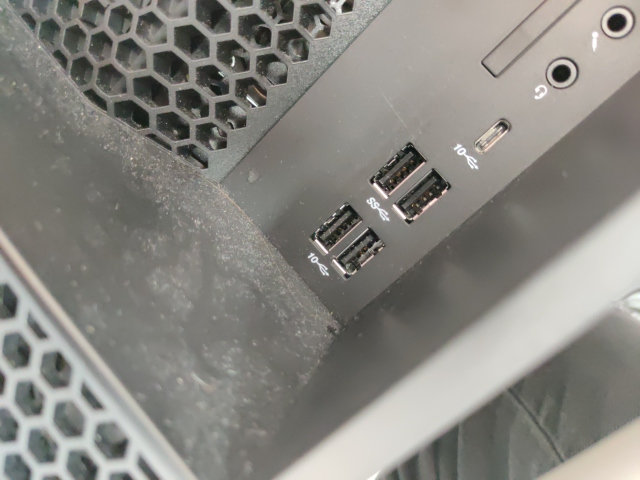3.5mm_audio: (600, 4, 636, 39), (546, 55, 579, 90)
USB: (393, 168, 452, 224), (370, 142, 427, 198), (332, 226, 386, 278), (311, 202, 364, 254)
USB-C: (474, 119, 511, 153)
